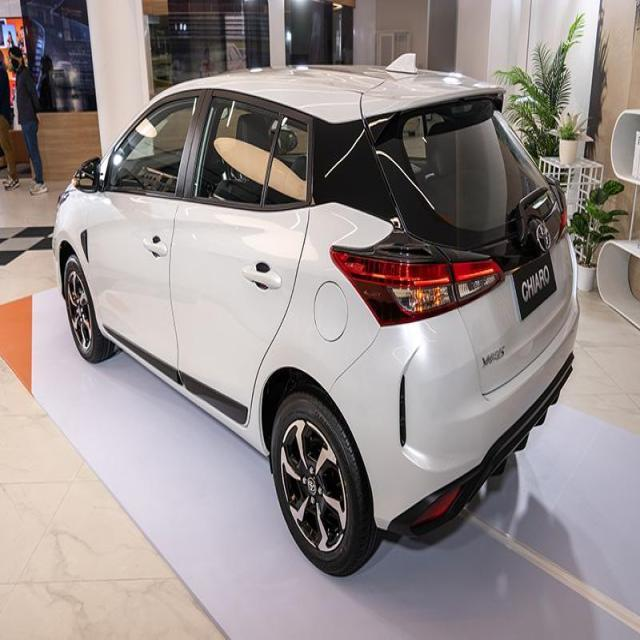Hatchback: (53, 59, 578, 575)
